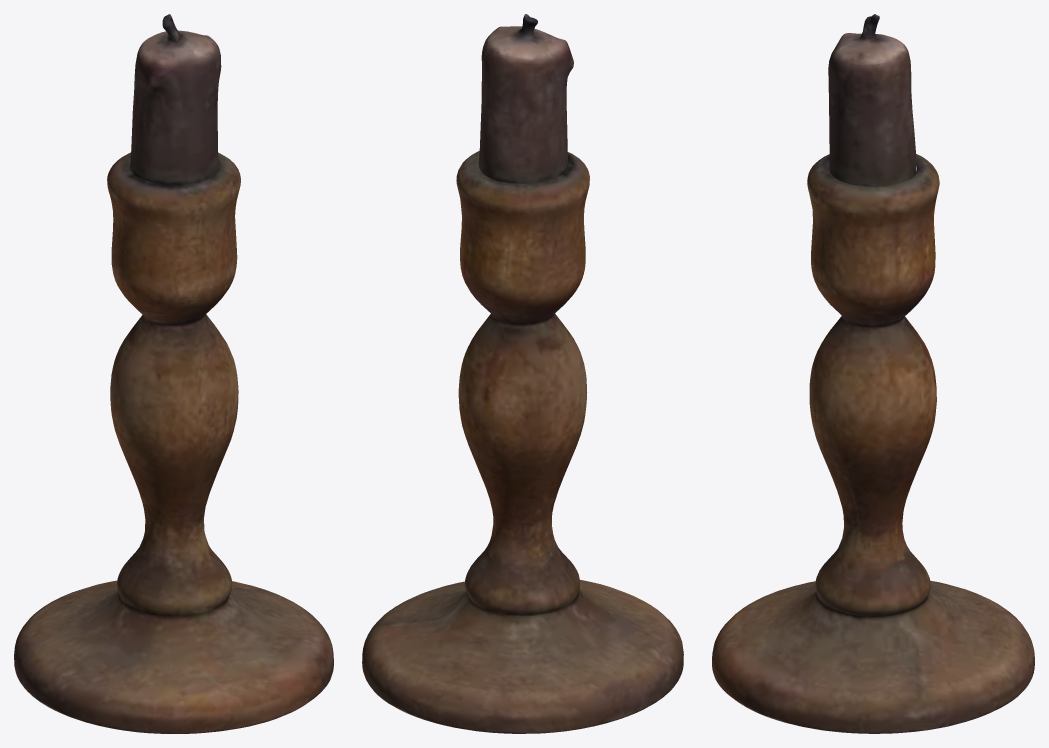
The model's file is wooden_candlestick.glb.
3 views of the same model, side by side, from view 1: azimuth 30°, elevation 25°; view 2: azimuth 150°, elevation 25°; view 3: azimuth 270°, elevation 25° (orthographic).
Parts seen in each view (by area): view 1: wooden_candlestick; view 2: wooden_candlestick; view 3: wooden_candlestick.
Boxes of the visible parts, <box> form: wooden_candlestick: <box>14,14,333,733</box>; wooden_candlestick: <box>362,14,683,733</box>; wooden_candlestick: <box>712,14,1034,733</box>.
Size of the model in its own units: 0.0972 by 0.2196 by 0.0986.
1 material, 1 textured.
